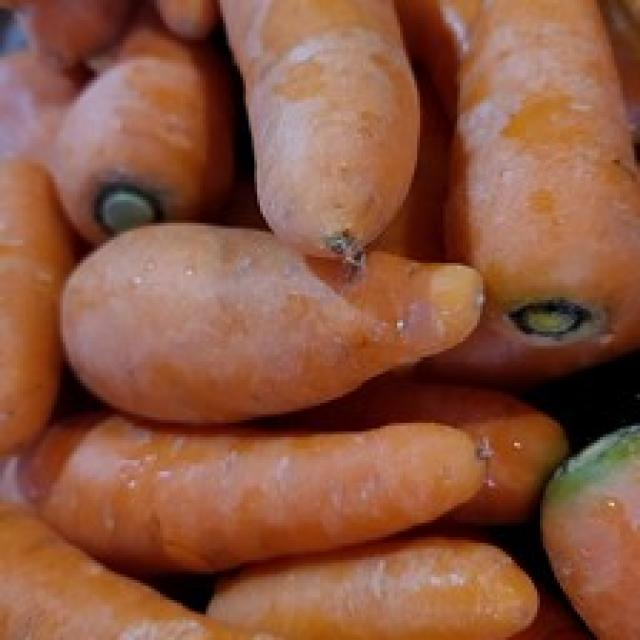Fresh_Carrot: (10, 320, 494, 570), (60, 219, 481, 425), (215, 0, 416, 272)
